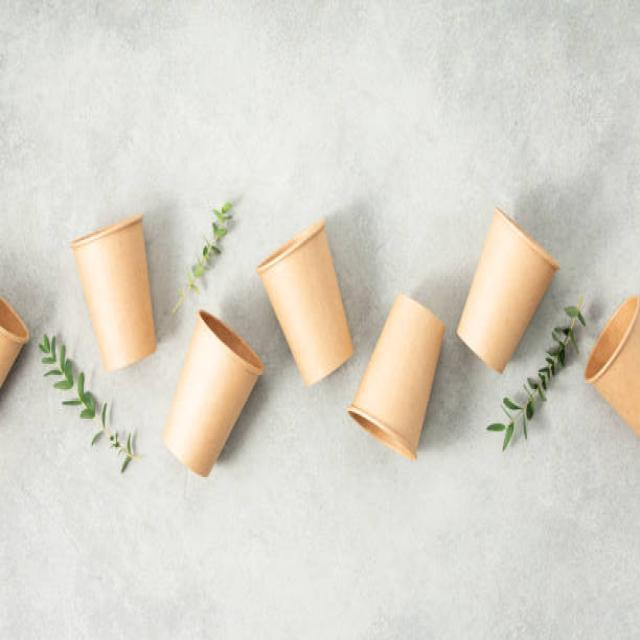plastic: (463, 220, 546, 376), (271, 257, 355, 381), (178, 334, 252, 464), (364, 310, 434, 442), (83, 242, 160, 359)
